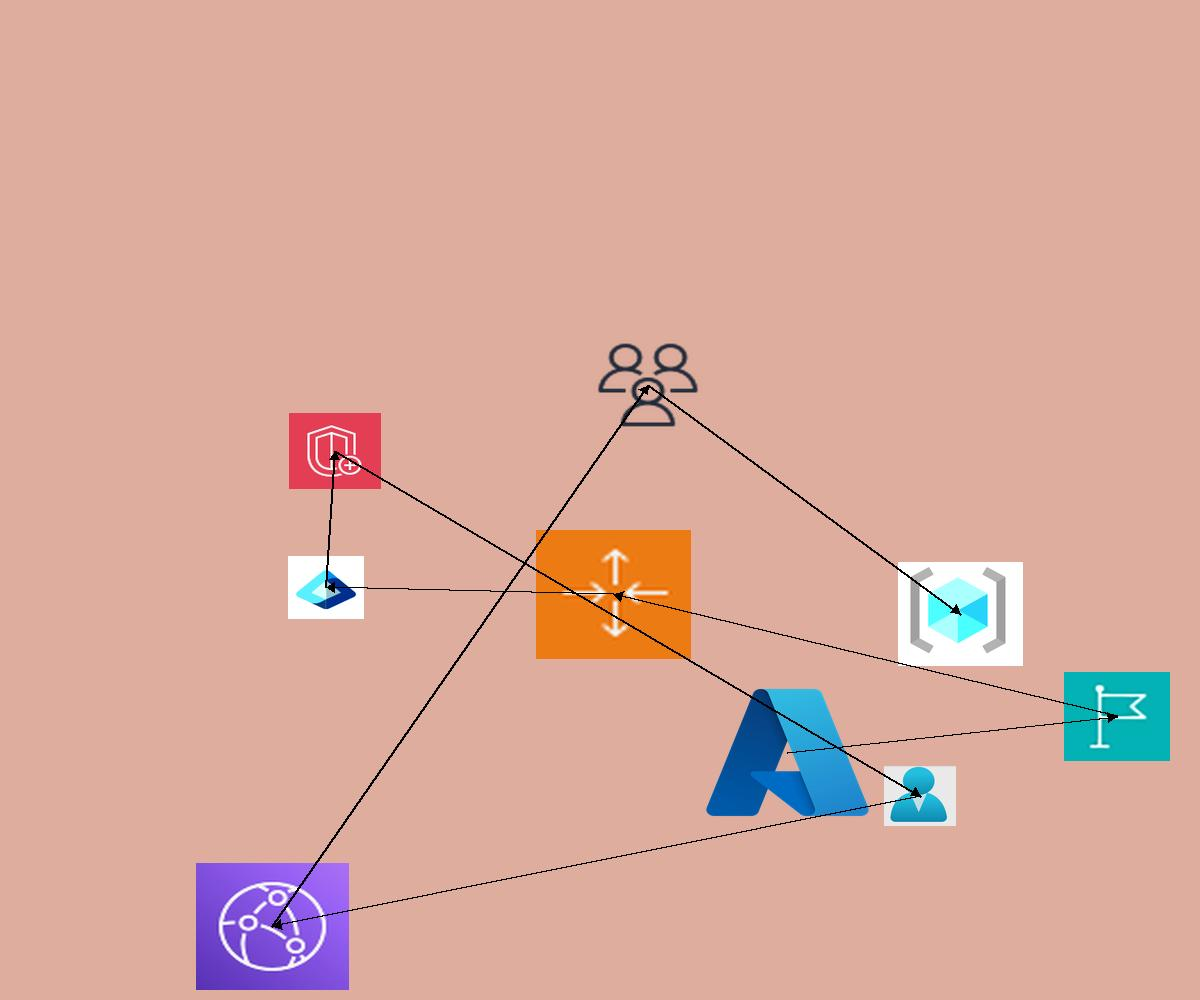AWS-CloudFront: (196, 863, 349, 990)
AWS-Region: (1064, 672, 1170, 761)
AWS-Res_Users: (594, 340, 702, 430)
AWS-Scaling-group: (536, 530, 691, 659)
AWS-Shield: (289, 413, 381, 489)
Azure_microsoft_entra: (288, 556, 364, 619)
Azure_resource_group: (898, 562, 1023, 666)
Azure_services: (699, 679, 876, 826)
Azure_users: (884, 766, 956, 826)
